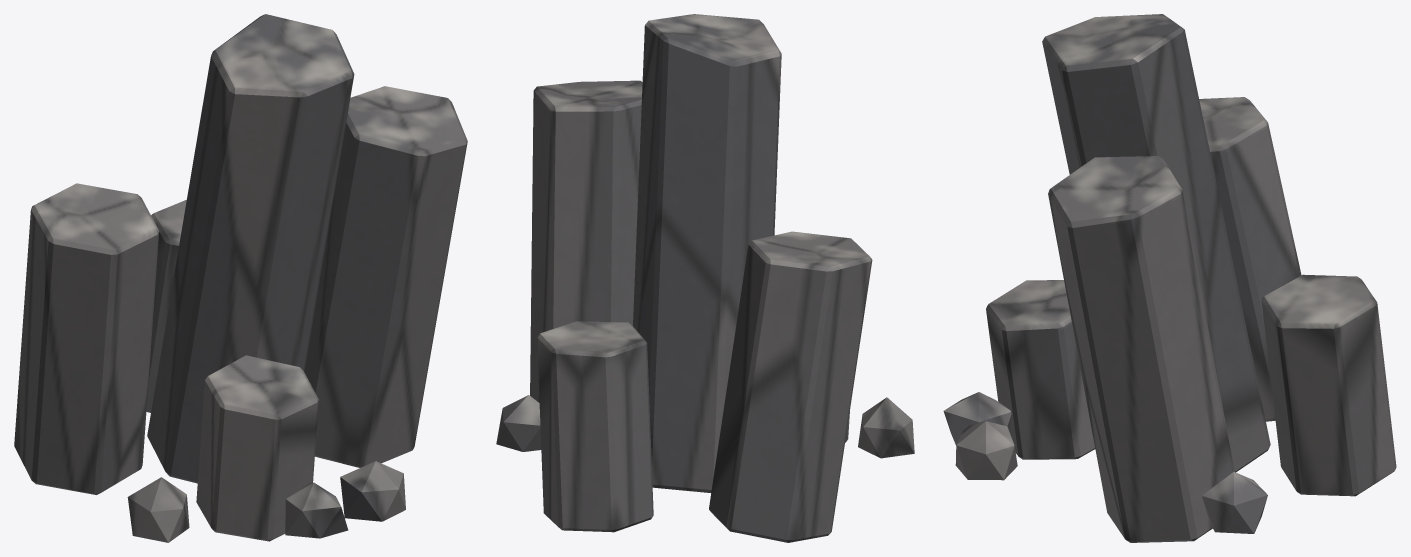
File: basalt_rock_b.gltf
The picture shows the model from 3 angles, left to right: view 1: azimuth 30°, elevation 25°; view 2: azimuth 150°, elevation 25°; view 3: azimuth 270°, elevation 25°; orthographic projection. The views are drawn at different scales.
Visible parts, largest first — view 1: basalt_rock_b; view 2: basalt_rock_b; view 3: basalt_rock_b.
Boxes of the visible parts, x1,y1,x2,y2 form: basalt_rock_b: (14,14,467,542); basalt_rock_b: (496,14,914,542); basalt_rock_b: (943,14,1396,542).
Bounding box in the file's own units: 1.74 × 2 × 1.79.
Materials: 1 (1 with a texture image).
